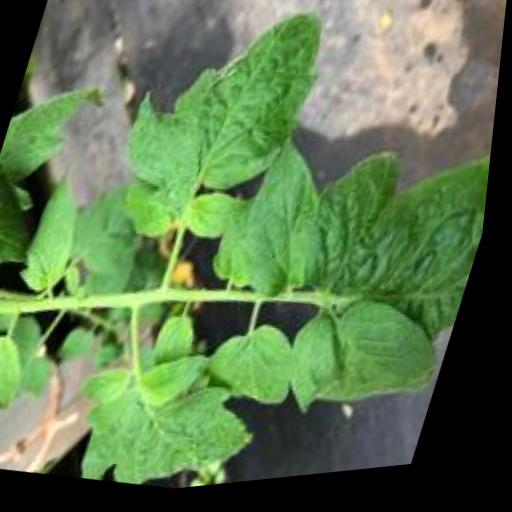Healthy: (97, 0, 343, 267), (283, 136, 497, 365), (58, 326, 291, 504), (276, 286, 469, 446), (227, 130, 346, 308), (206, 316, 321, 421), (15, 167, 103, 303)
